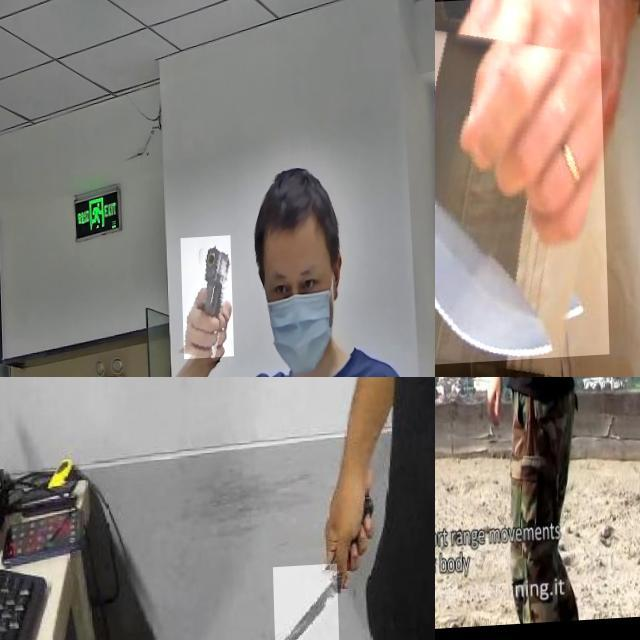-: (435, 0, 640, 377), (270, 567, 337, 640), (435, 407, 473, 449)
gun-knife-thesis - v11 Yolov5 augmented: (178, 239, 230, 362)
